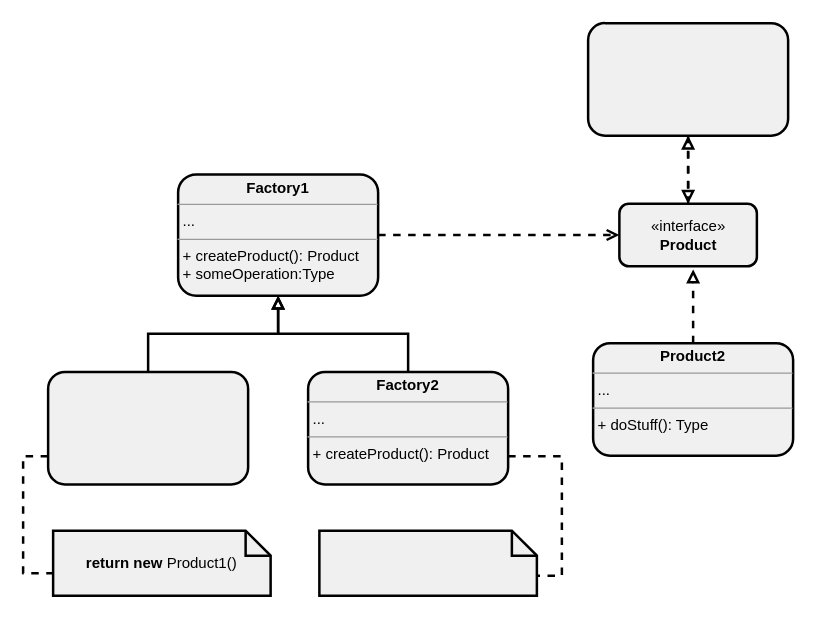
The diagram is 815 pixels wide and 618 high, and some of its shapes have lost their labels. Here are the shapes that lost their labels. From the top down, the centre of each, then its label:
At [687,78]: "Product1 ... + doStuff(): Type".
At [147,427]: "Factory1 ... + createProduct(): Product".
At [428,562]: "return new Product2()".
